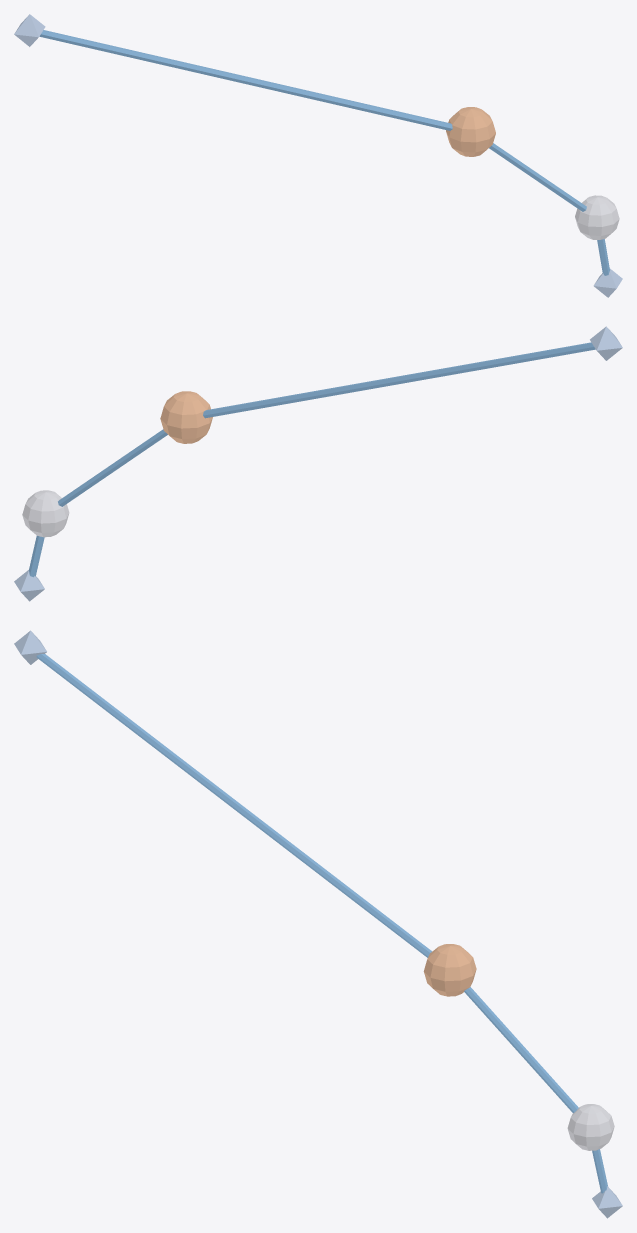
The model's file is constellation-ari.glb.
3 renders of one model, top to bottom at view 1: azimuth 30°, elevation 25°; view 2: azimuth 150°, elevation 25°; view 3: azimuth 330°, elevation 25°, orthographic. The views are drawn at different scales.
Bounding box in the file's own units: 1.41 × 0.9288 × 0.1744.
